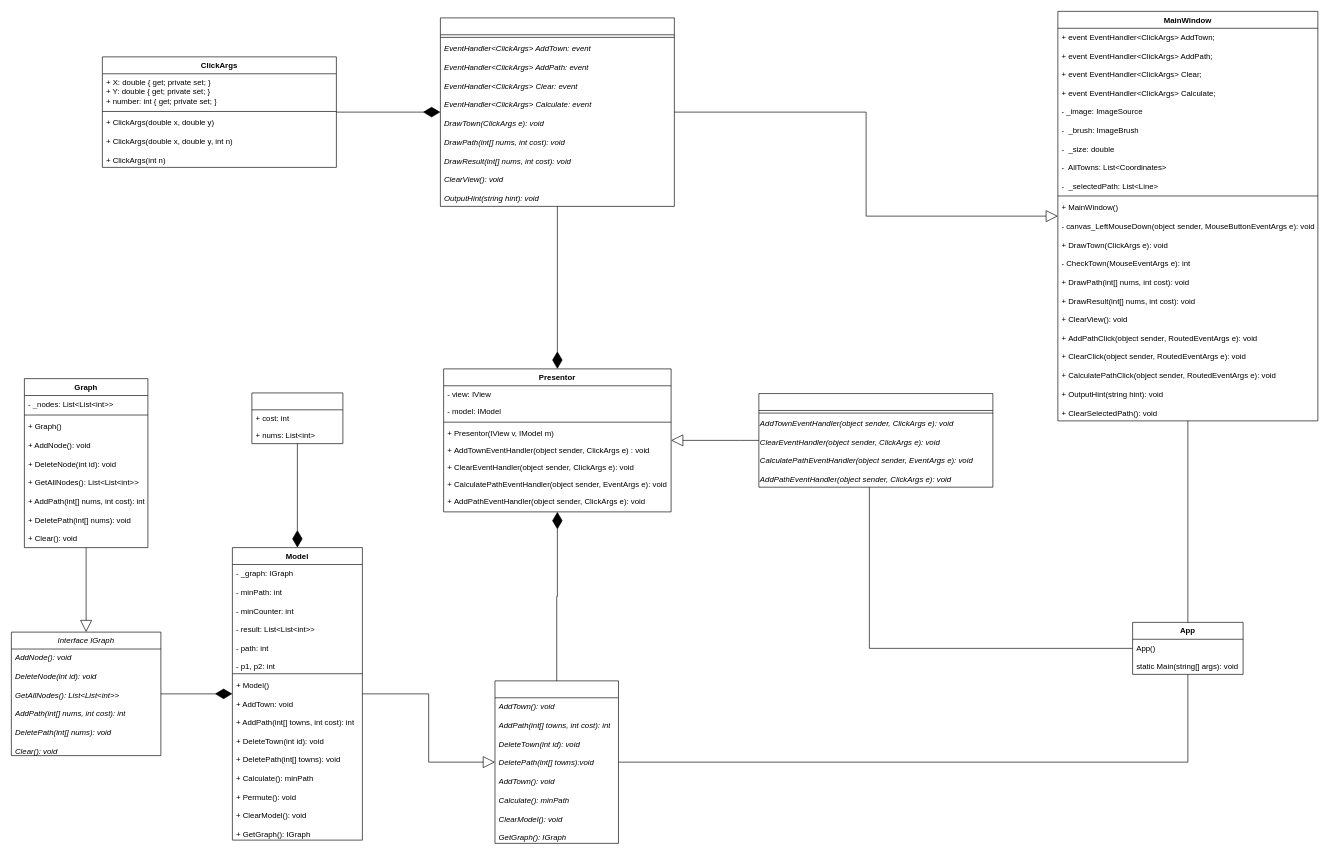
The diagram is 1329 pixels wide and 857 high, and some of its shapes have lost their labels. Here are the shapes that lost their labels. From the top down, the box of each, then its label:
(440, 17, 674, 206): Interface IView
(251, 392, 343, 444): structure minPath
(758, 393, 993, 487): Interface IPresentor
(494, 680, 618, 843): Interface IModel
